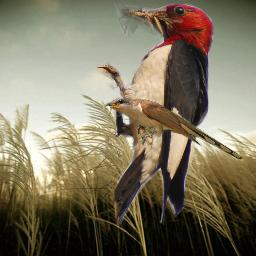Cuckoo: (102, 97, 243, 160)
Woodpecker: (97, 3, 214, 227)
